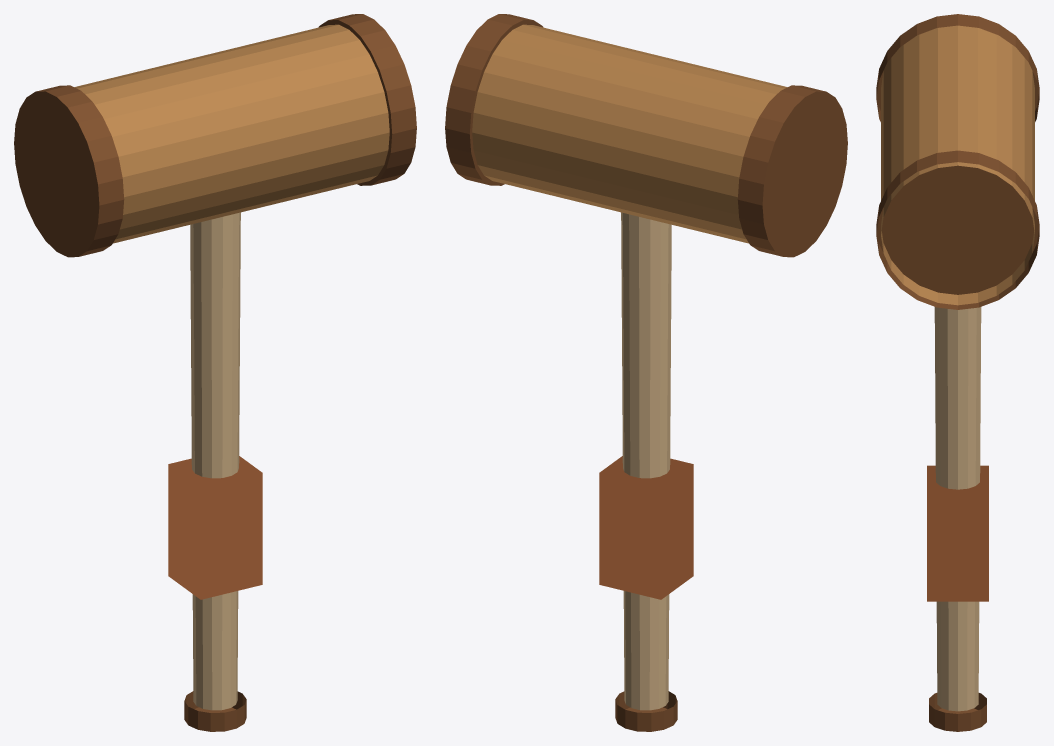
File: hammer.obj
The picture shows the model from 3 angles, left to right: view 1: azimuth 30°, elevation 25°; view 2: azimuth 150°, elevation 25°; view 3: azimuth 270°, elevation 25°; orthographic projection. The views are drawn at different scales.
Bounding box in the file's own units: 0.282 × 0.5607 × 0.1314.
